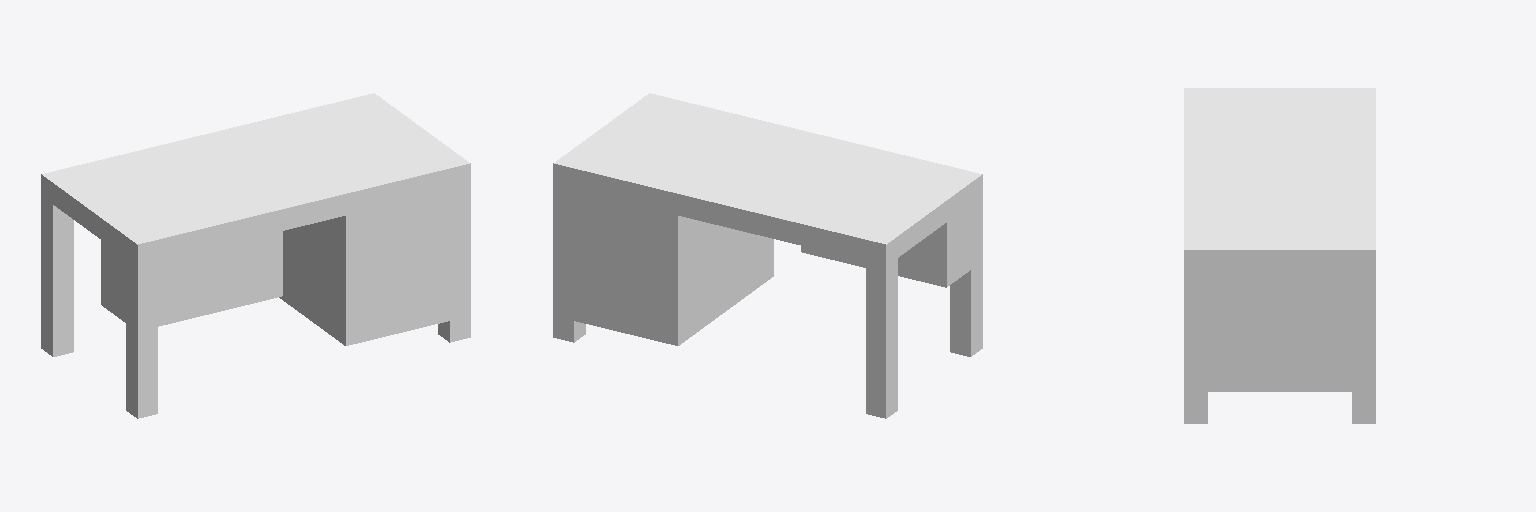
Rendered from Metal_Desk.obj.
The picture shows the model from 3 angles: view 1: azimuth 30°, elevation 25°; view 2: azimuth 150°, elevation 25°; view 3: azimuth 270°, elevation 25°; orthographic projection.
Visible parts, largest first — view 1: Metal_Desk; view 2: Metal_Desk; view 3: Metal_Desk.
Boxes of the visible parts, box(x1,y1,x2,y2) form: Metal_Desk: box(41, 93, 470, 418); Metal_Desk: box(553, 93, 982, 418); Metal_Desk: box(1184, 88, 1375, 423).
Bounding box in the file's own units: 16 × 8 × 8.